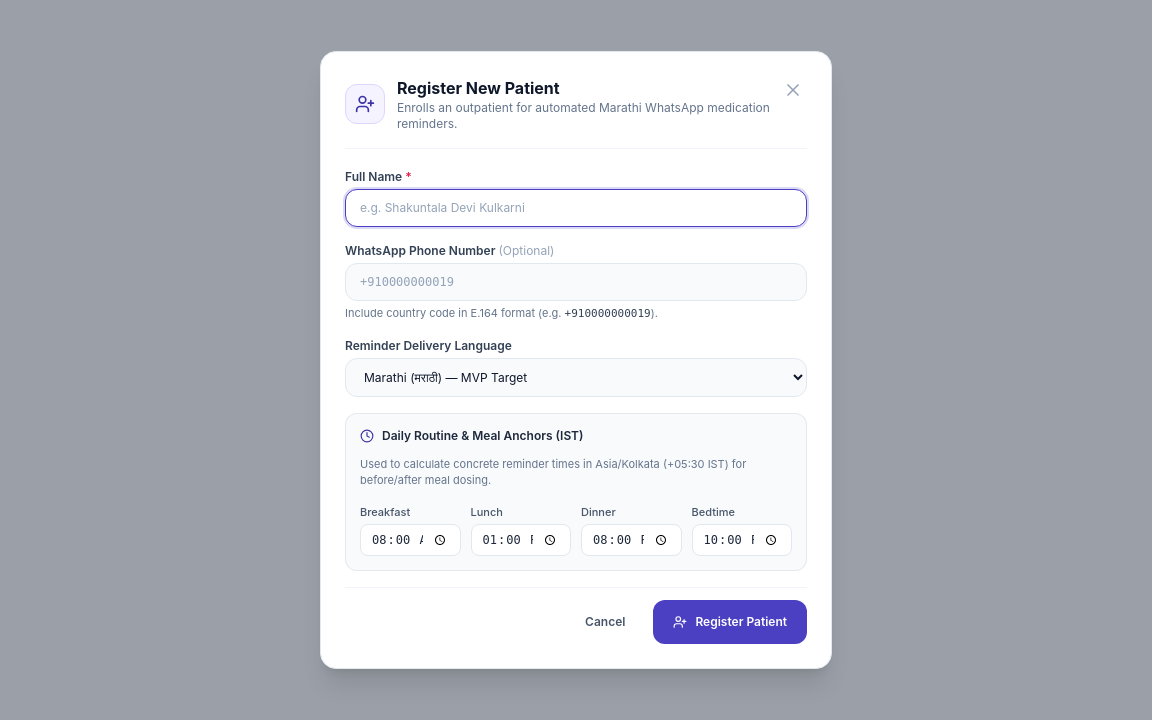
Test: CreatePatientModal Component › 6. Displays error banner when API returns error
This screenshot has width=1152, height=720.
Type "Valid Name" into the field labelled "Full Name *" at (576, 208), box [345,189,807,227]
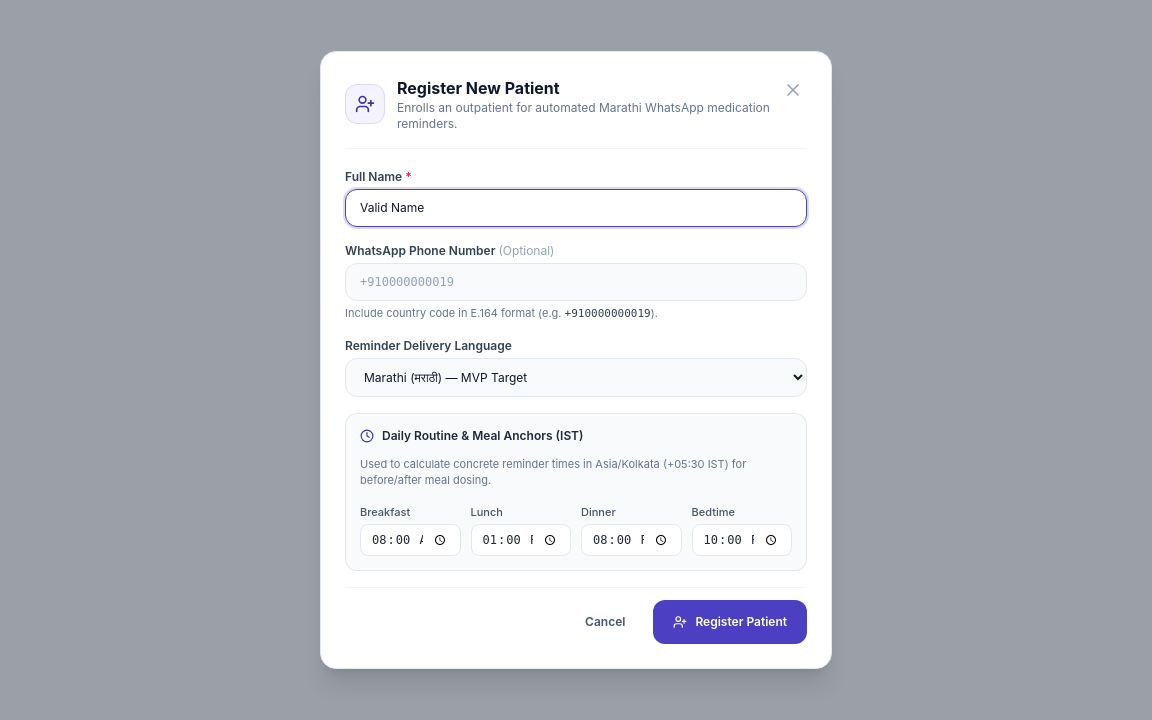
Click the button "Register Patient" at (730, 622), box [653,600,807,644]
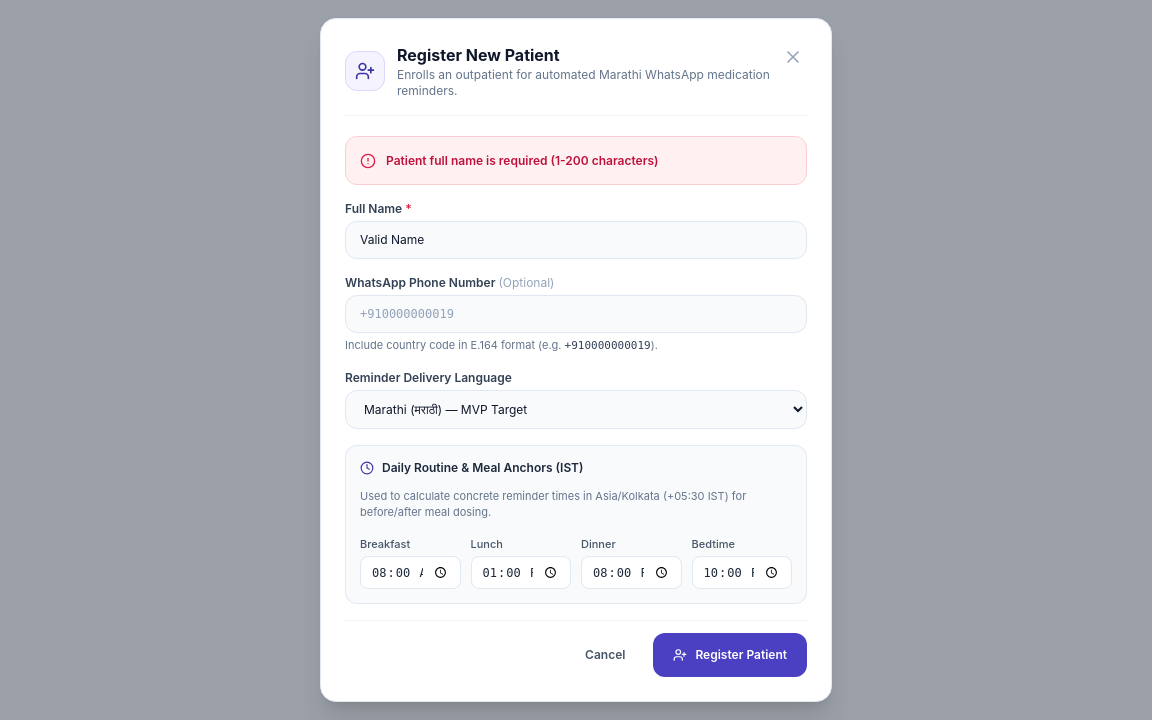
Check: the text "Patient full name is required (1-200 characters)" is shown, box [386,151,658,170]
